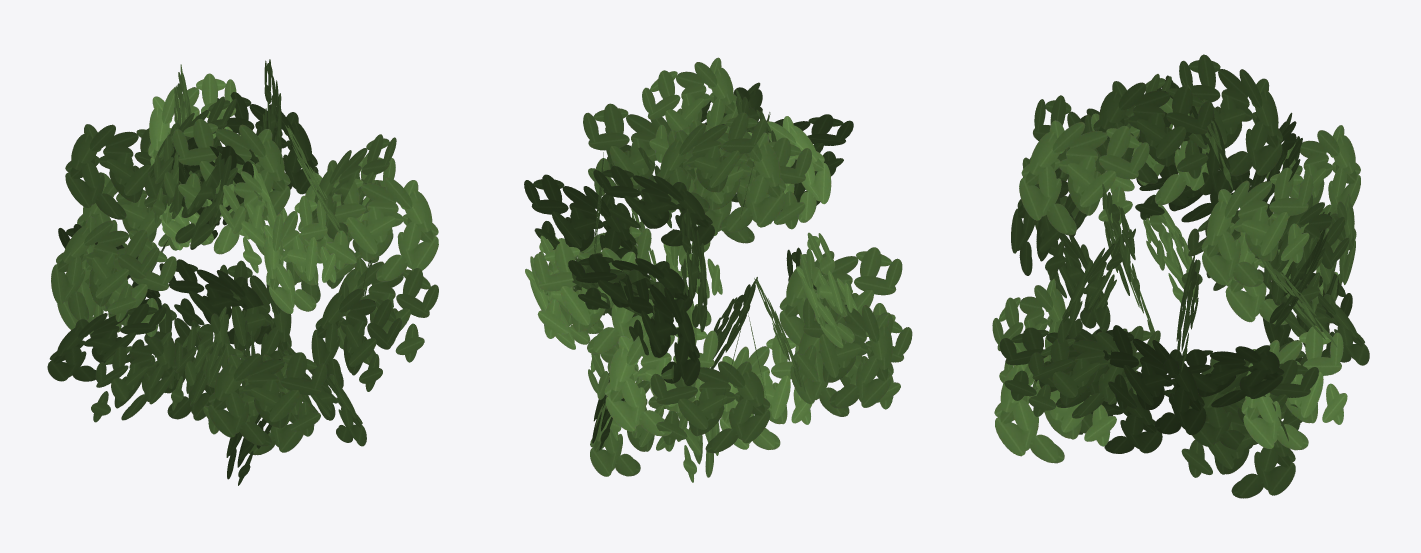
Rendered from pottedplant.glb.
The picture shows the model from 3 angles, left to right: view 1: azimuth 30°, elevation 25°; view 2: azimuth 150°, elevation 25°; view 3: azimuth 270°, elevation 25°; orthographic projection. The views are drawn at different scales.
Parts seen in each view (by area): view 1: plant; view 2: plant; view 3: plant.
Part boxes in pixels (x1=…): plant: x1=47, y1=59, x2=438, y2=485; plant: x1=524, y1=57, x2=912, y2=482; plant: x1=992, y1=54, x2=1369, y2=498.
Size of the model in its own units: 1 by 1.04 by 0.8899.
Materials: 1 (1 with a texture image).
